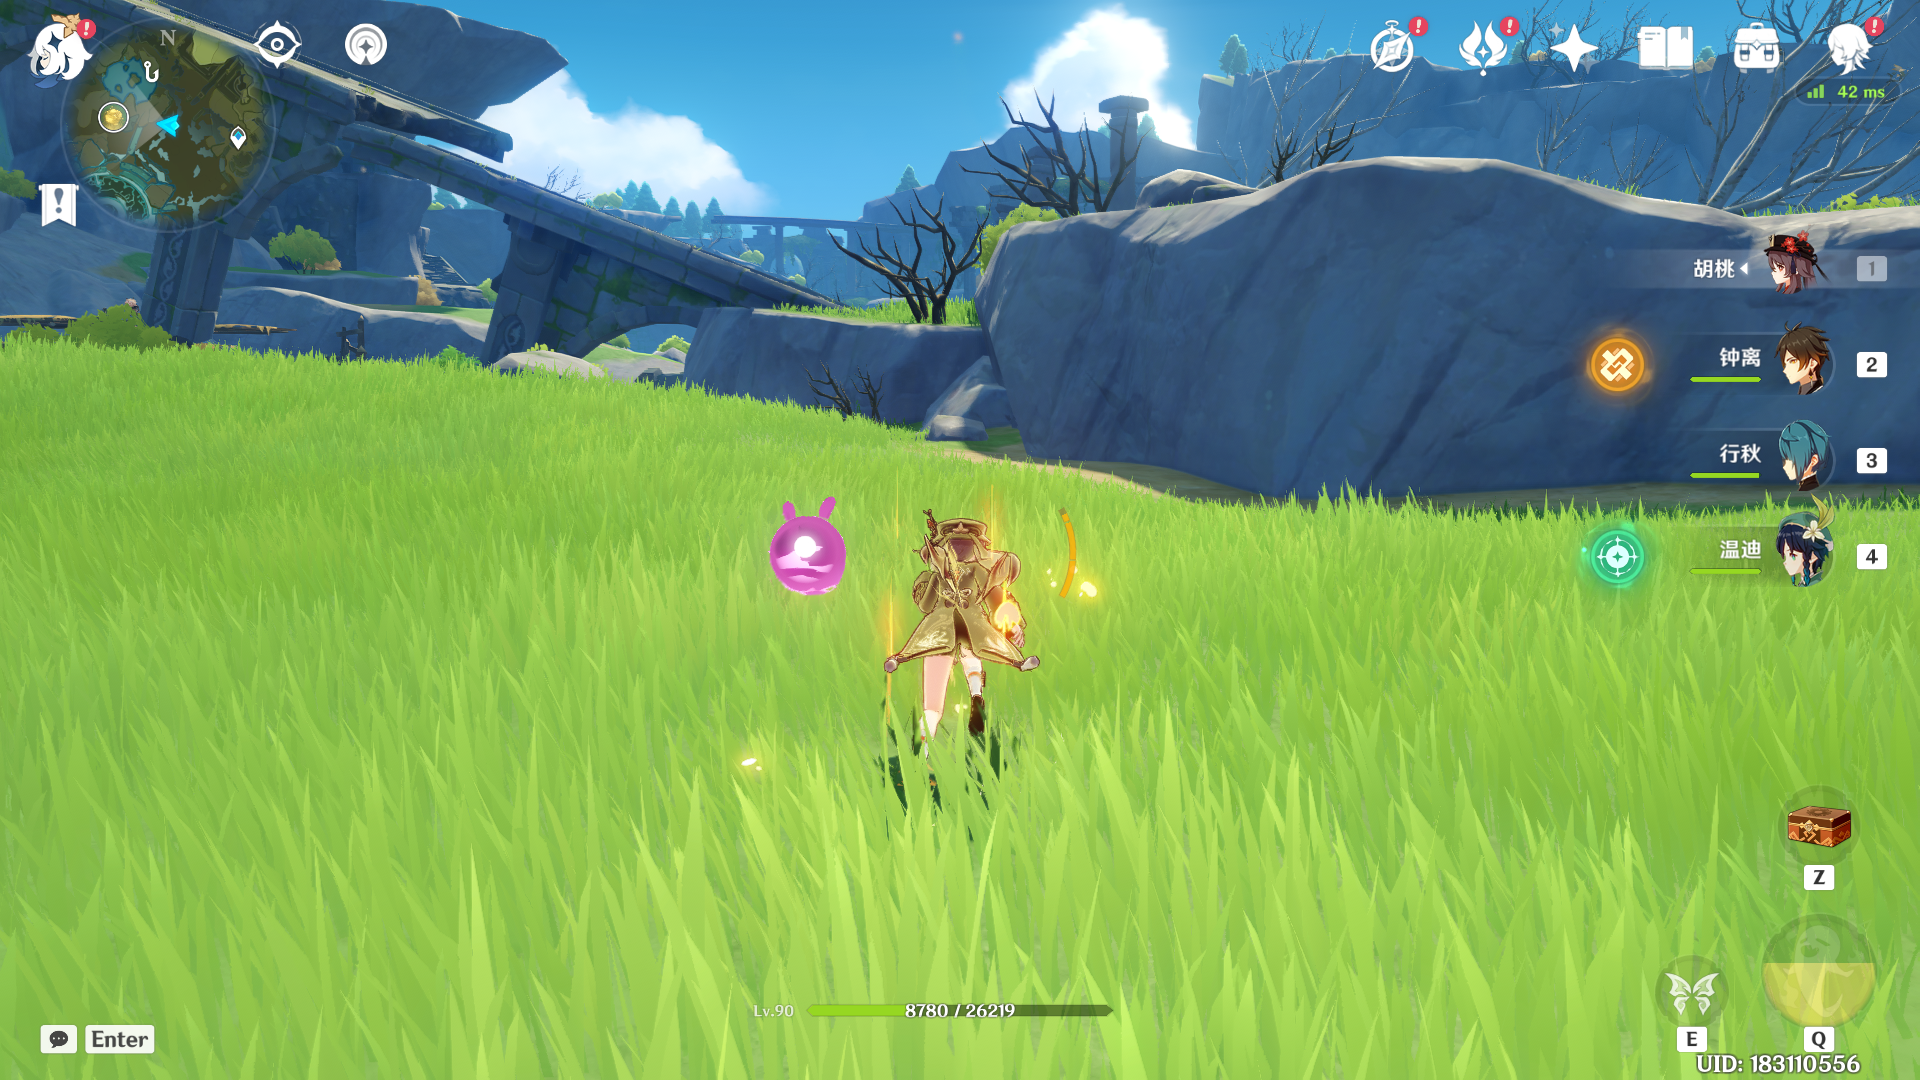character: (858, 485, 1084, 804)
